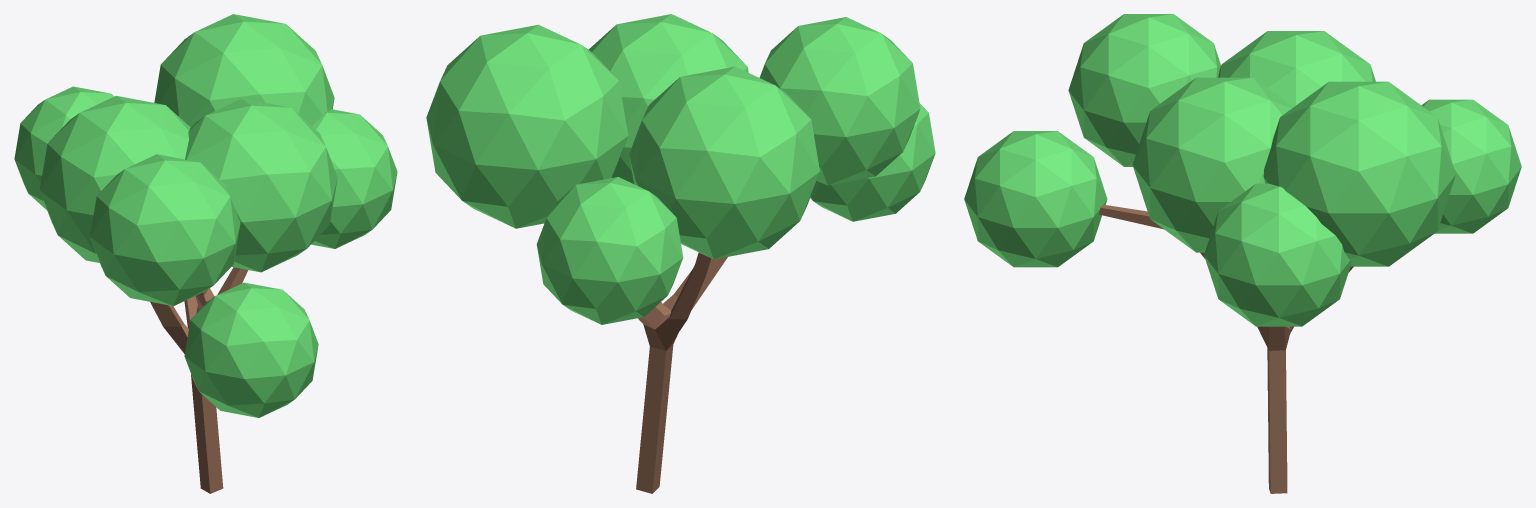
The model's file is low-poly-tree1.glb.
3 views of the same model, side by side, from view 1: azimuth 30°, elevation 25°; view 2: azimuth 150°, elevation 25°; view 3: azimuth 270°, elevation 25° (orthographic). The views are drawn at different scales.
Parts seen in each view (by area): view 1: tree; view 2: tree; view 3: tree.
Boxes of the visible parts, x1=… form: tree: x1=14, y1=14, x2=397, y2=493; tree: x1=426, y1=14, x2=935, y2=493; tree: x1=964, y1=14, x2=1521, y2=493.
Size of the model in its own units: 1.28 by 1.49 by 1.71.
